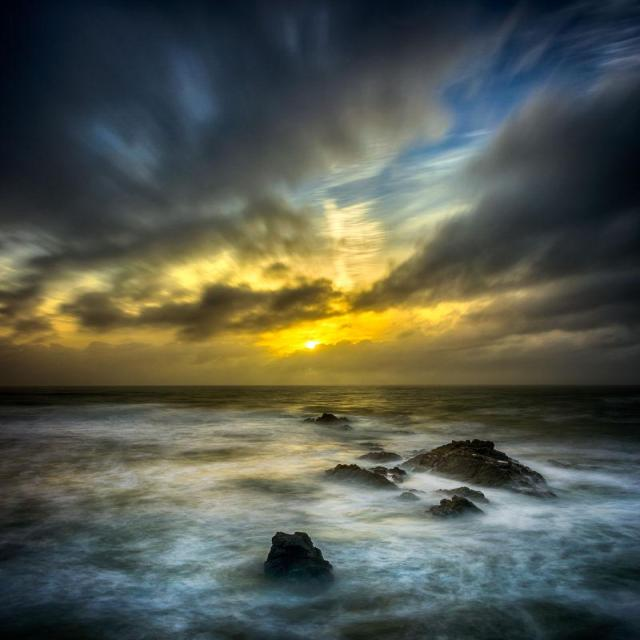reef: (308, 408, 524, 524)
